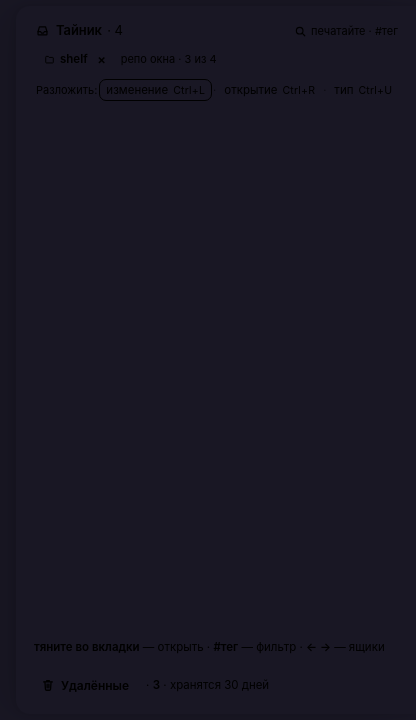
Test case: StashDrawer — the trash (stage 06) › the head says «Удалённые · 3» under the bin; the sorts go; the filter row is the hint
Click the button with class "stash-btn": coordinates (86, 685) [34, 674, 138, 696]
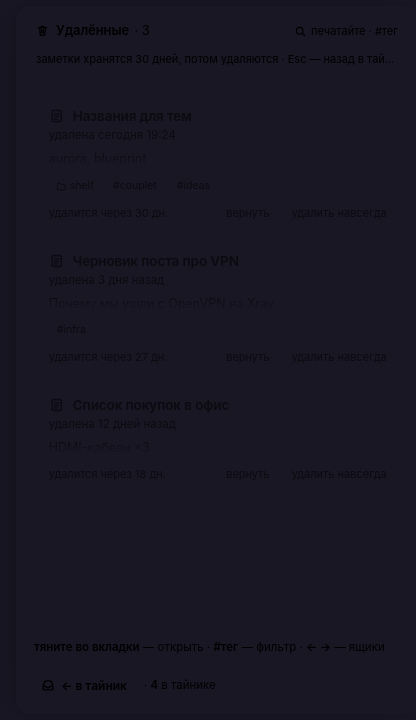
expect the element showing "Удалённые · 3" is shown: met, box [36, 22, 150, 38]
expect the element with class "st-filter" reads "заметки хранятся 30 дней, потом удаляются · Esc — назад в тайник": met, box [36, 52, 404, 66]
expect the element with class "fchip" is gone: met
